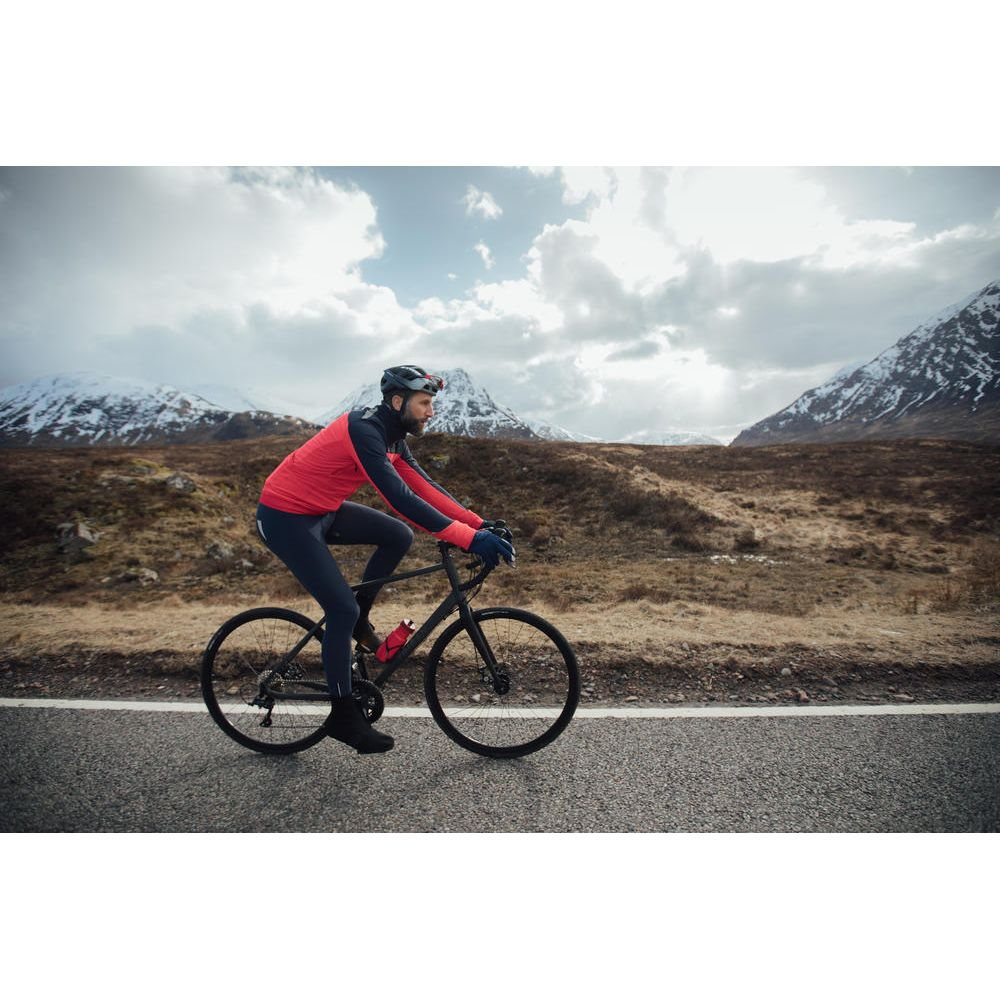RoadBike: (411, 506, 924, 785), (320, 475, 724, 746)
